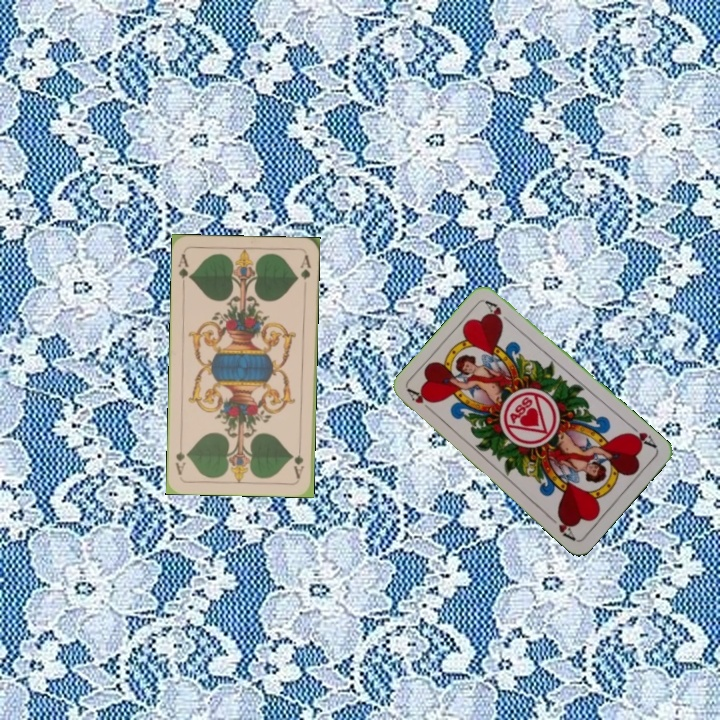GA: (174, 250, 194, 290), (290, 440, 307, 481)
HA: (623, 420, 659, 451), (404, 385, 438, 417)
